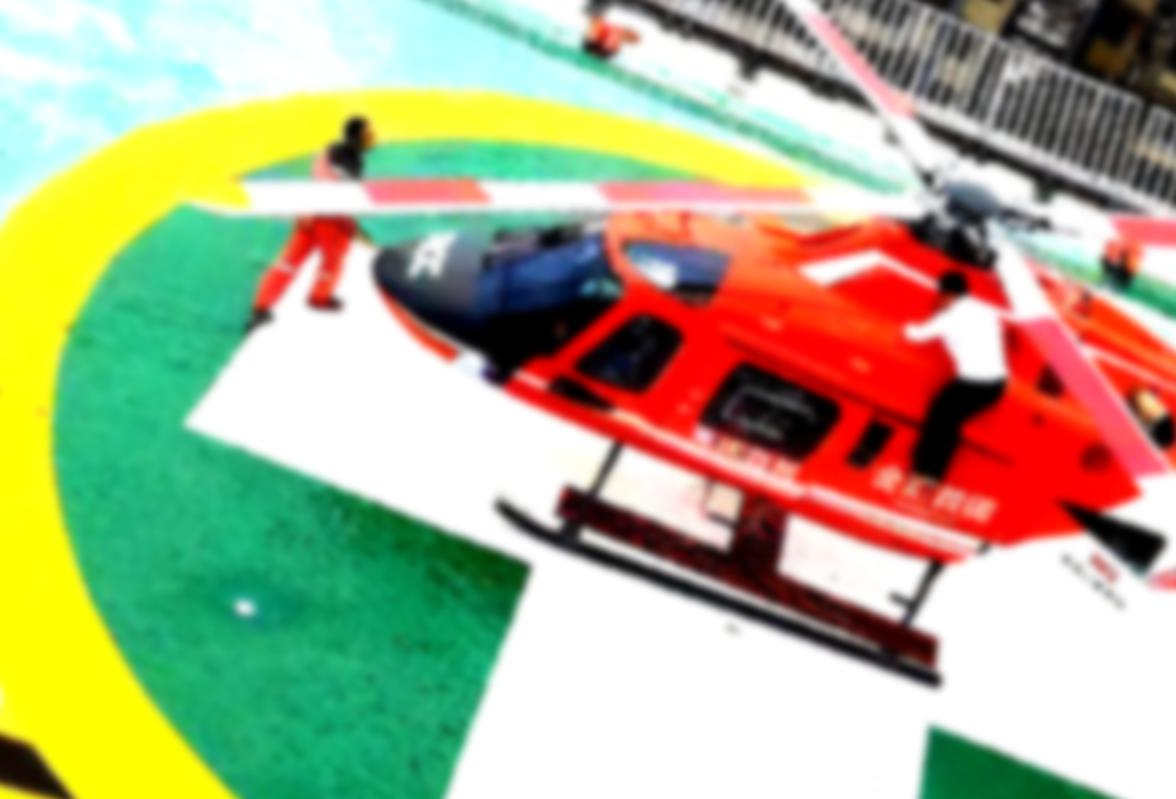Apron: (1, 62, 1176, 799)
